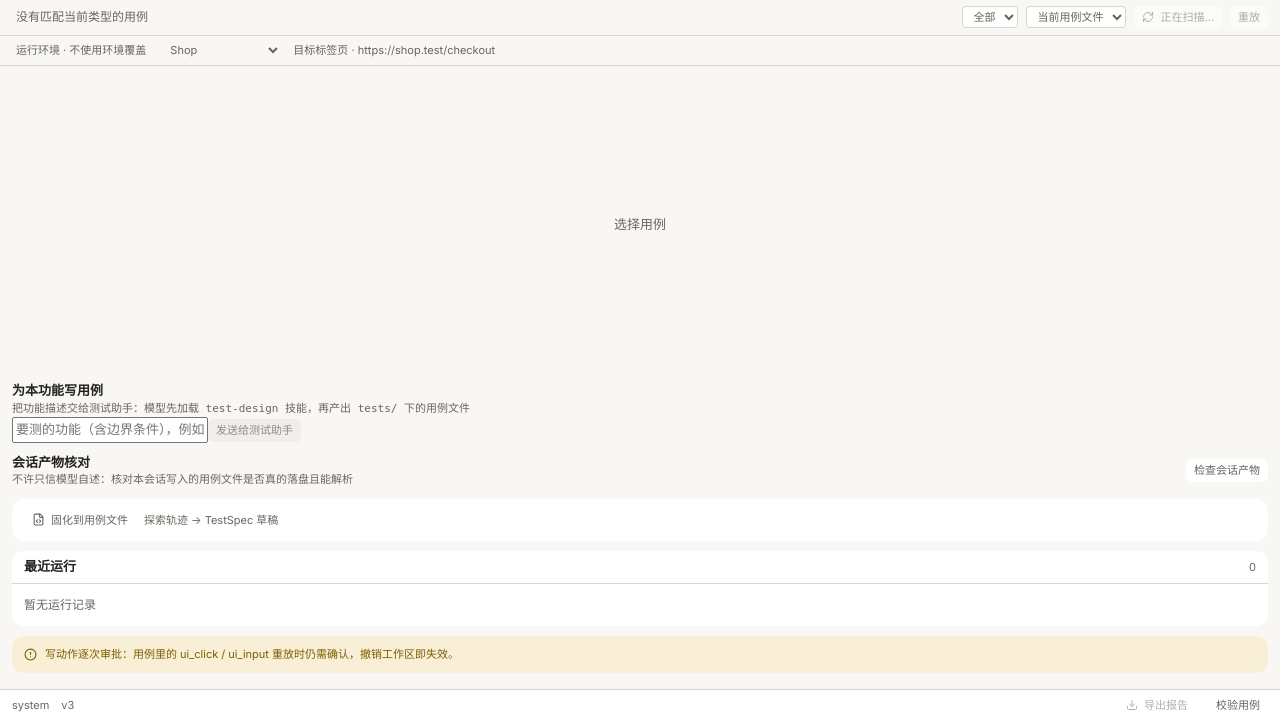
TestingView run flow › reports what the session actually produced instead of trusting its summary
Click the button "检查会话产物": point(1227, 471) [1186,459,1268,482]
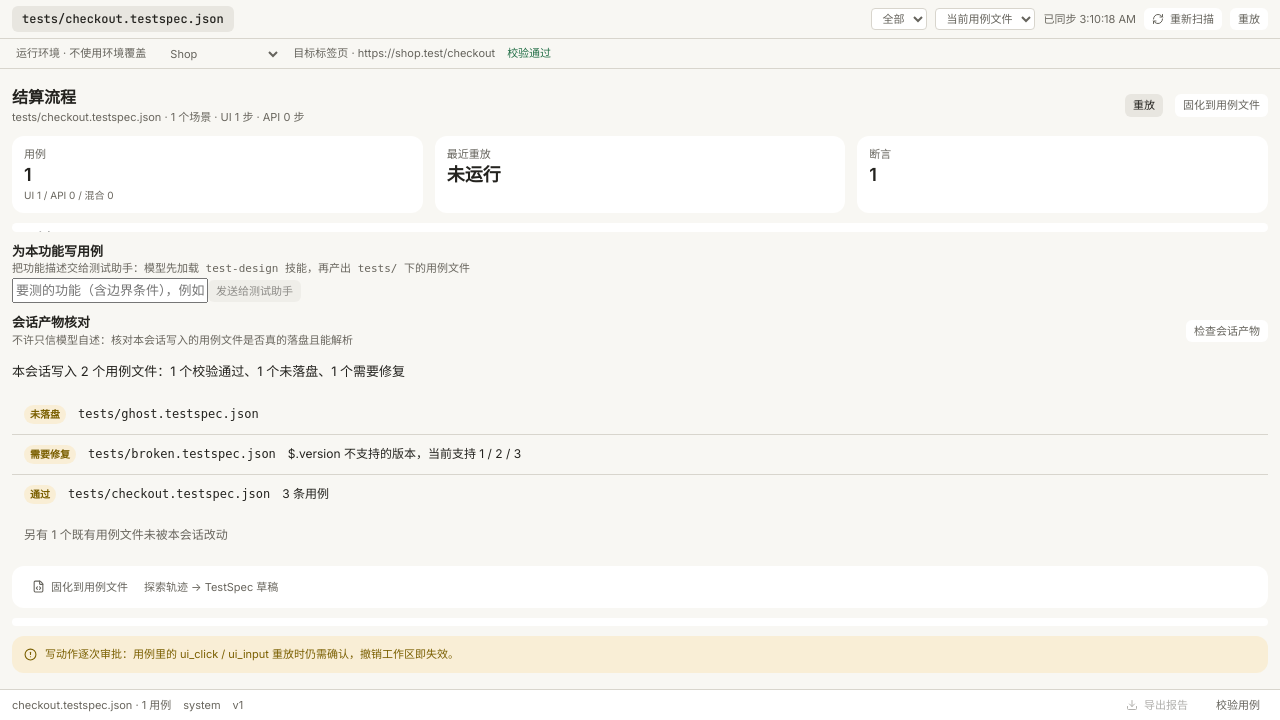
Check: the text "本会话写入 2 个用例文件：1 个校验通过、1 个未落盘、1 个需要修复" is shown, box [12,363,405,379]
Check: the text "tests/ghost.testspec.json" is shown, box [78,405,259,423]
Check: the text "$.version 不支持的版本，当前支持 1 / 2 / 3" is shown, box [288,445,521,463]
